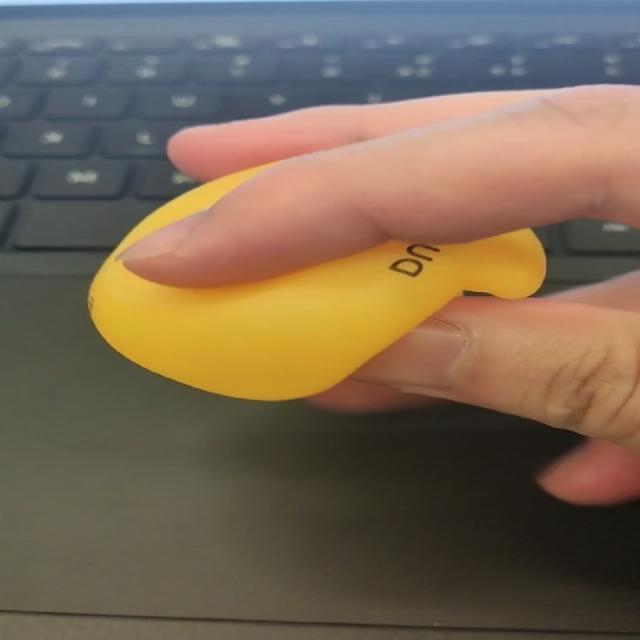rubber-duck: (88, 167, 543, 398)
